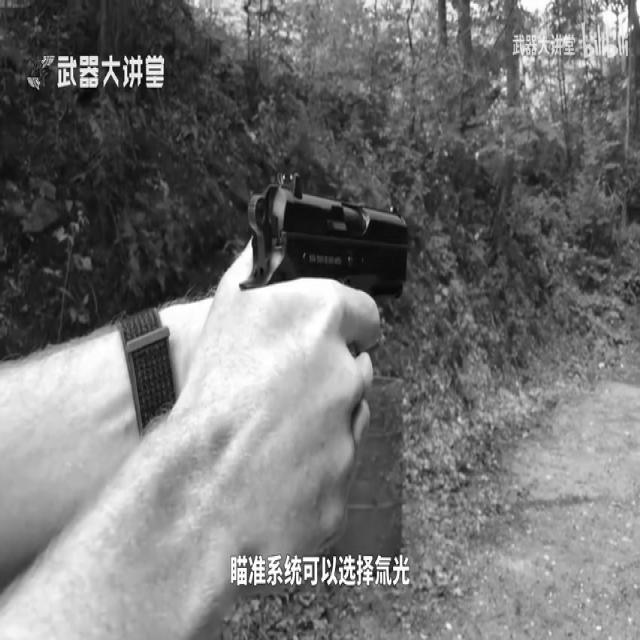Hand-Gun: (209, 116, 457, 501)
